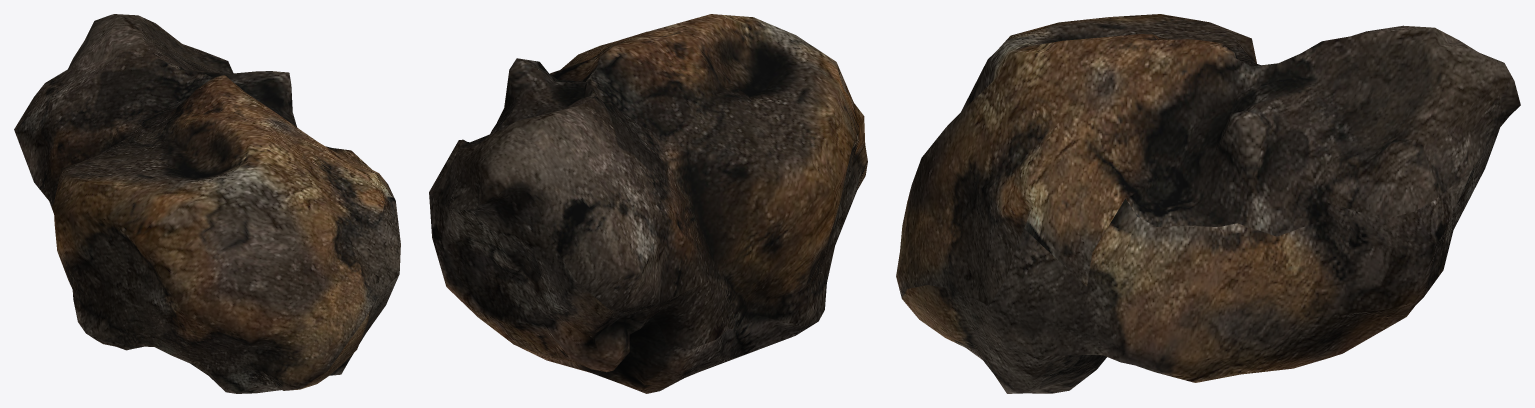
Rendered from rock_1x2.dae.
The picture shows the model from 3 angles, left to right: view 1: azimuth 30°, elevation 25°; view 2: azimuth 150°, elevation 25°; view 3: azimuth 270°, elevation 25°; orthographic projection. The views are drawn at different scales.
Parts seen in each view (by area): view 1: rock_1x2; view 2: rock_1x2; view 3: rock_1x2.
Part boxes in pixels (x1,y1,x2,y2): rock_1x2: (14,14,400,393); rock_1x2: (429,14,867,393); rock_1x2: (896,14,1520,393).
Size of the model in its own units: 3.33 by 4.71 by 2.87.
1 material, 1 textured.
